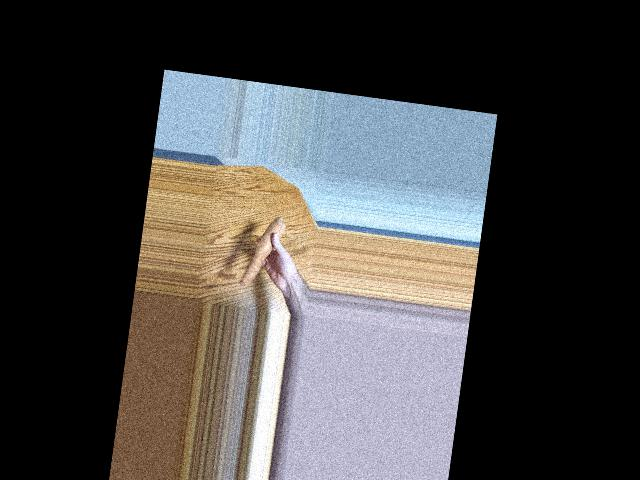sweet_potato: (244, 211, 278, 290)
